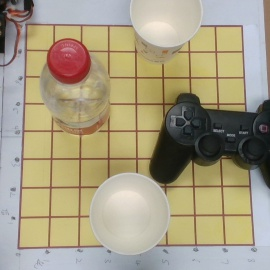bottle: (39, 38, 130, 155)
cup: (88, 171, 172, 255), (126, 1, 204, 73)
remote: (149, 93, 270, 188)
